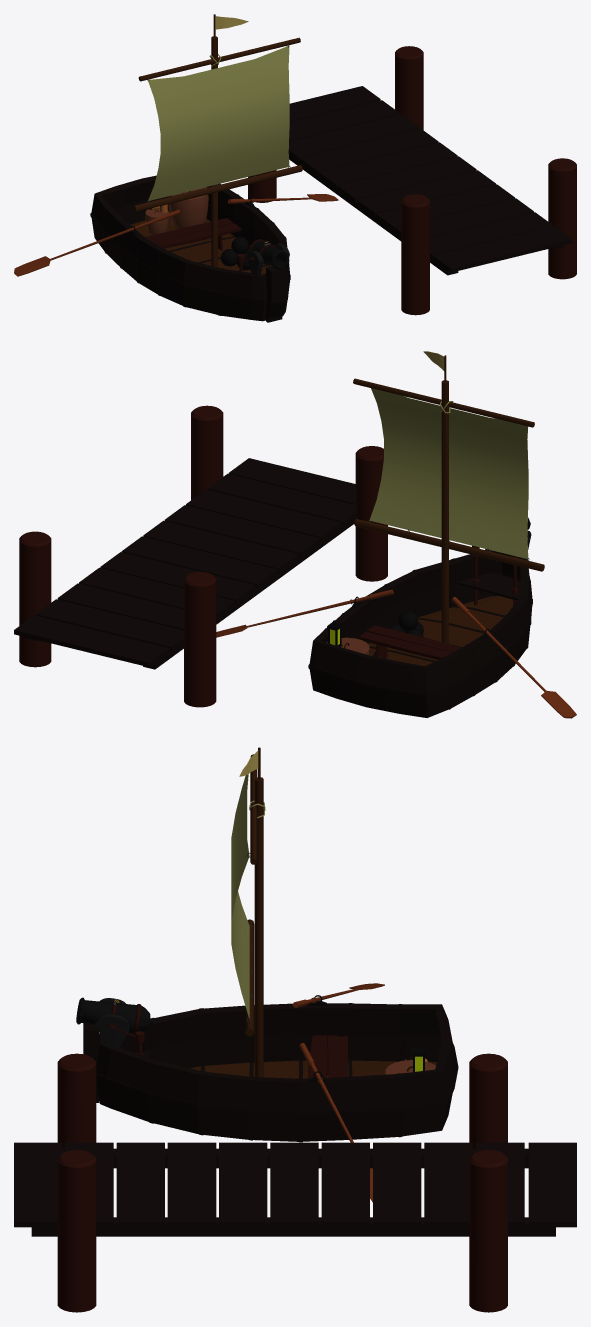
The model's file is Boat-FBX.FBX.
The picture shows the model from 3 angles, top to bottom: view 1: azimuth 30°, elevation 25°; view 2: azimuth 150°, elevation 25°; view 3: azimuth 270°, elevation 25°; orthographic projection. The views are drawn at different scales.
Visible parts, largest first — view 1: Boat, dock, barrel1, row2, CannonBalls, row1, Barrel2; view 2: Boat, dock, row2, row1, CannonBalls; view 3: dock, Boat.
Part boxes in pixels (x1,y1,x2,y2): Boat: [90, 14, 302, 322]; dock: [248, 46, 576, 315]; barrel1: [168, 187, 208, 228]; row2: [14, 209, 180, 276]; CannonBalls: [220, 237, 249, 269]; row1: [227, 194, 338, 203]; Barrel2: [145, 209, 168, 234]; Boat: [308, 351, 544, 717]; dock: [14, 405, 387, 707]; row2: [452, 597, 576, 718]; row1: [216, 589, 393, 637]; CannonBalls: [388, 611, 423, 636]; dock: [14, 1053, 576, 1312]; Boat: [76, 747, 458, 1142].
Bounding box in the file's own units: 152 × 123 × 89.54.
